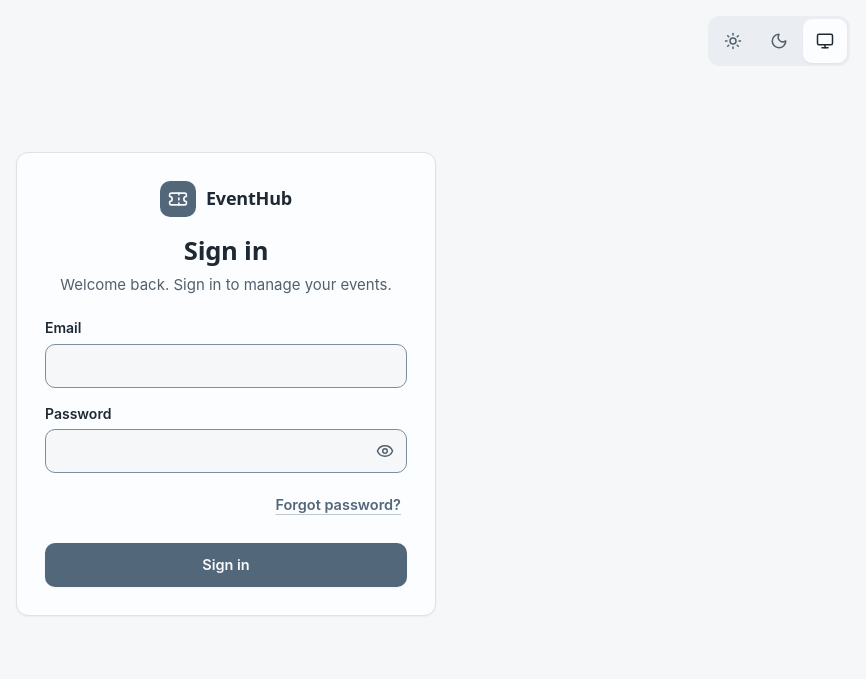
Test: LoginPage › retries an antiforgery rejection once, then shows the generic Alert
Type "sara@example.test" into the field labelled "Email".
click(226, 366); type("sara@example.test")  # box [45,344,407,388]
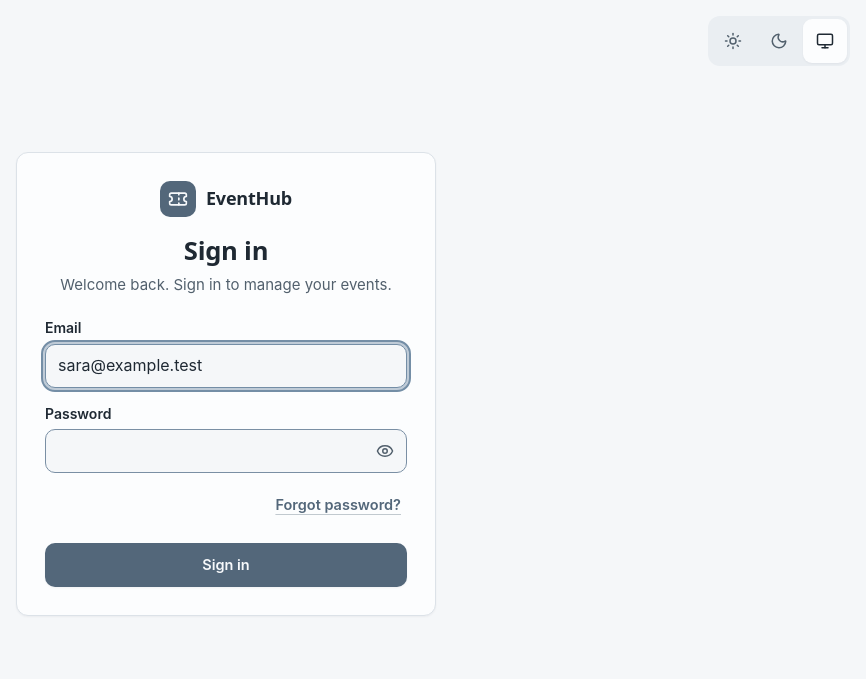
Type "secret" into the password field labelled "Password".
click(226, 451); type("secret")  # box [45,429,407,473]
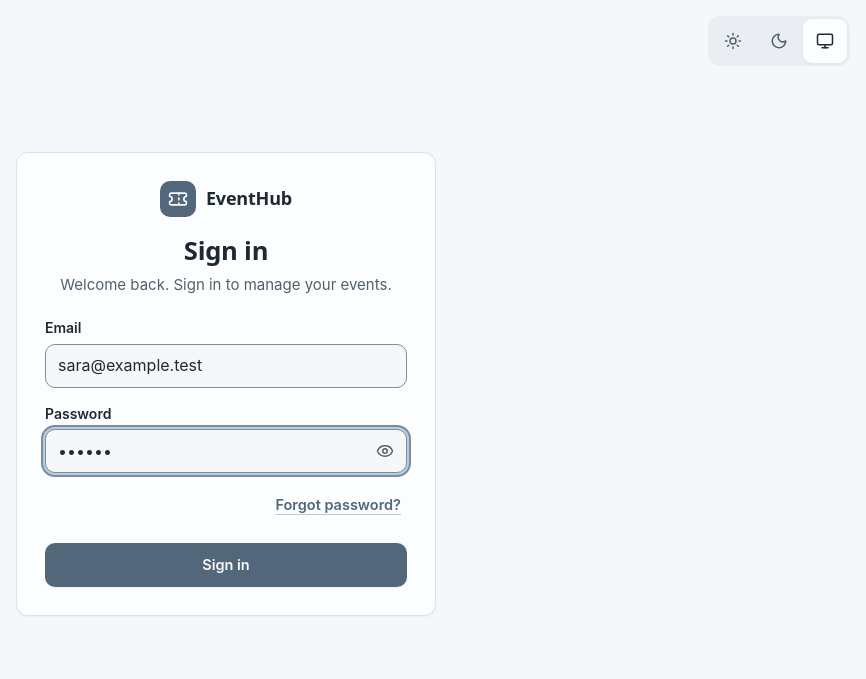
Click the button "Sign in".
click(226, 565)  # box [45,543,407,587]
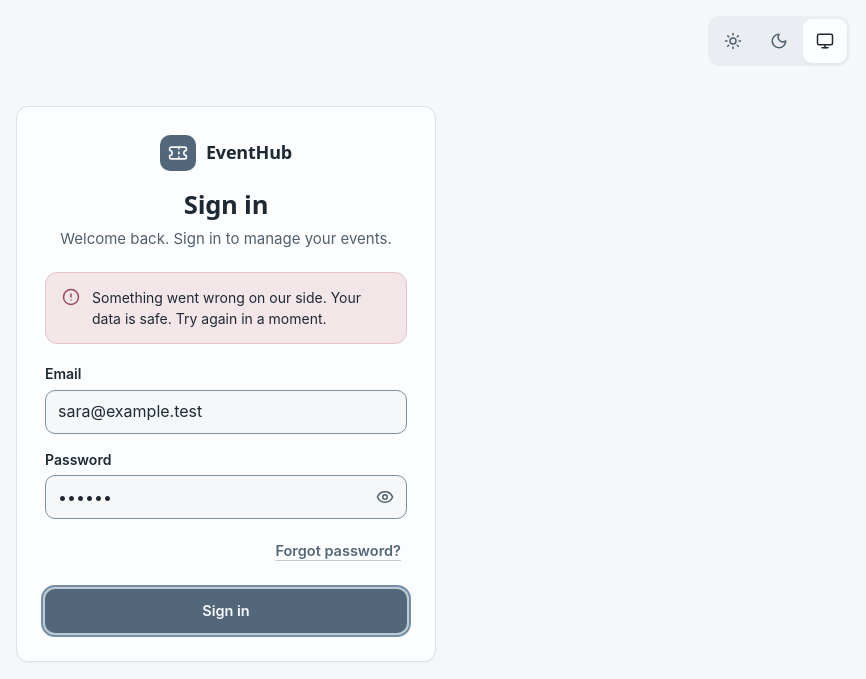
Expected: the message reads "Something went wrong on our side. Your data is safe. Try again in a moment.", [92,289,361,327]
